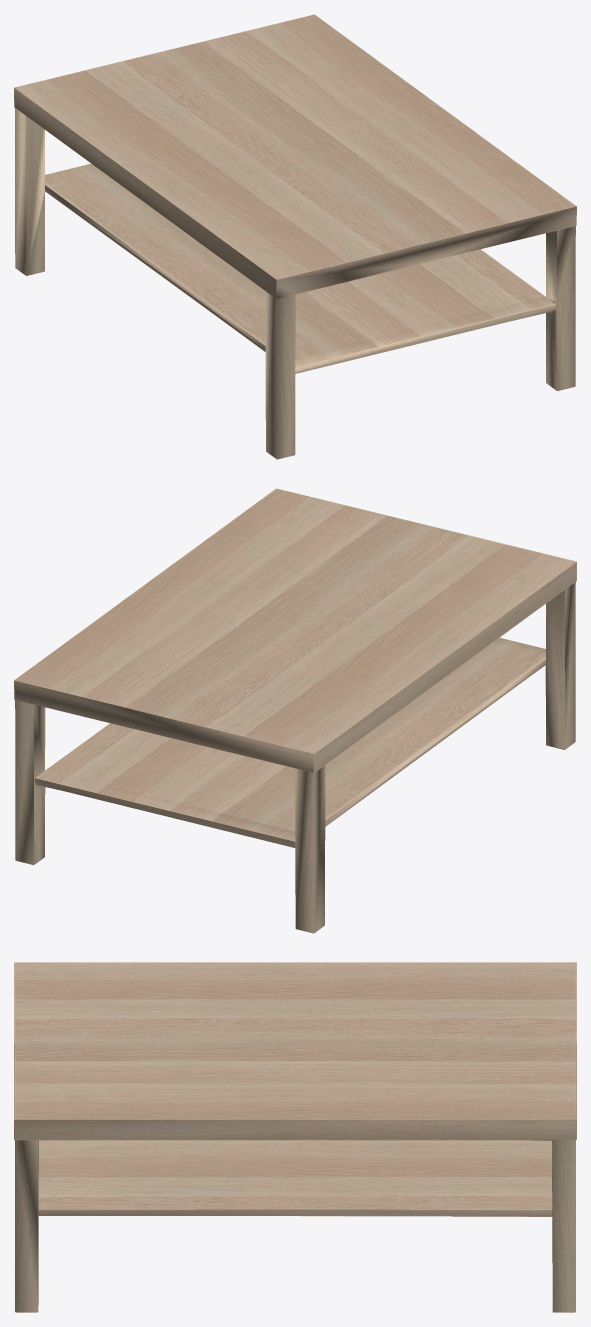
3 renders of one model, top to bottom at view 1: azimuth 30°, elevation 25°; view 2: azimuth 150°, elevation 25°; view 3: azimuth 270°, elevation 25°, orthographic. The views are drawn at different scales.
Visible parts, largest first — view 1: ProcessedMeshNode; view 2: ProcessedMeshNode; view 3: ProcessedMeshNode.
Boxes of the visible parts, x1,y1,x2,y2 form: ProcessedMeshNode: (14,14,576,459); ProcessedMeshNode: (14,488,576,933); ProcessedMeshNode: (14,962,576,1312).
Bounding box in the file's own units: 0.7804 × 0.4484 × 1.18.
Materials: 1 (1 with a texture image).
